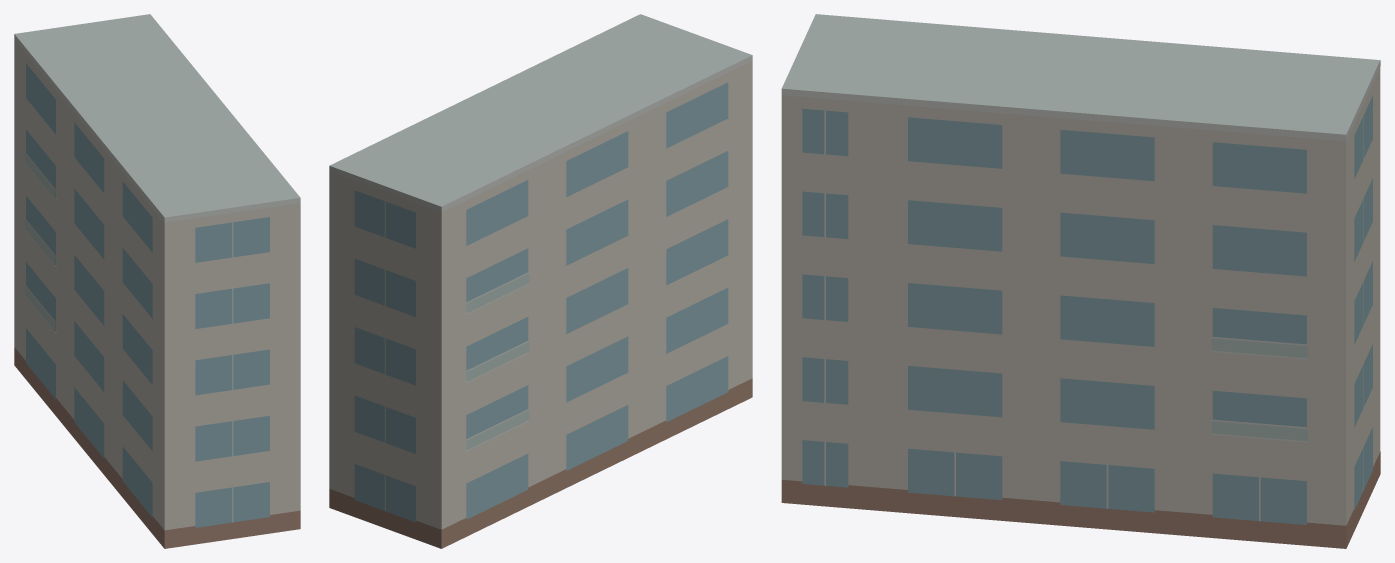
Rendered from survey-upis-33005087.glb.
3 views of the same model, side by side, from view 1: azimuth 30°, elevation 25°; view 2: azimuth 150°, elevation 25°; view 3: azimuth 270°, elevation 25° (orthographic). The views are drawn at different scales.
Visible parts, largest first — view 1: survey-upis-33005087.tmp; view 2: survey-upis-33005087.tmp; view 3: survey-upis-33005087.tmp.
Boxes of the visible parts, box(x1,y1,x2,y2) form: survey-upis-33005087.tmp: box(14, 14, 300, 548); survey-upis-33005087.tmp: box(329, 14, 752, 548); survey-upis-33005087.tmp: box(781, 14, 1380, 548).
Size of the model in its own units: 9.63 by 15.4 by 20.19.
